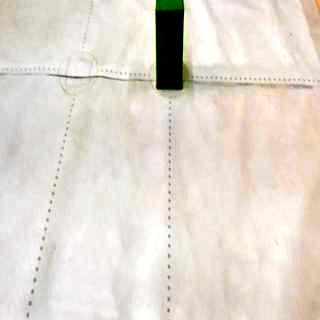greenbox: (156, 0, 183, 90)
